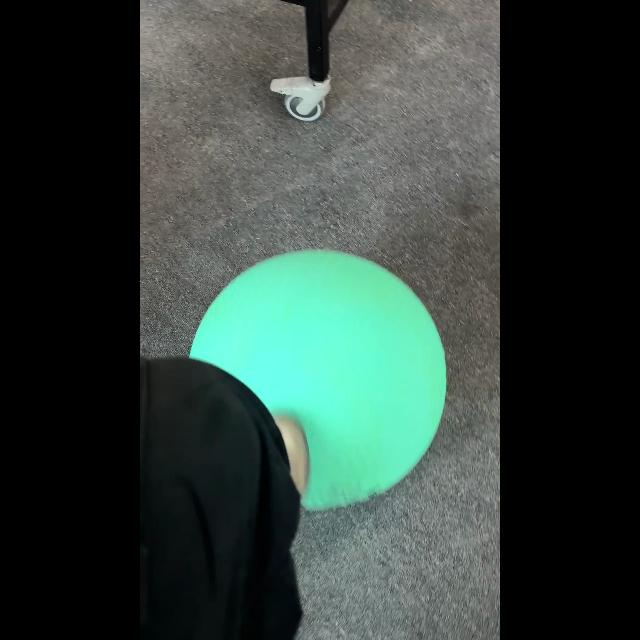ALGAE: (188, 248, 448, 512)
